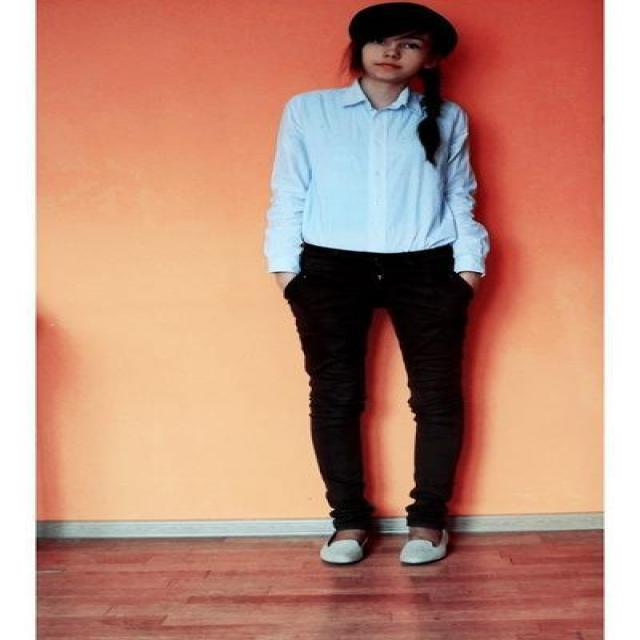pants: (283, 243, 472, 542)
shirt: (264, 81, 488, 282)
shoe: (320, 525, 442, 562)
